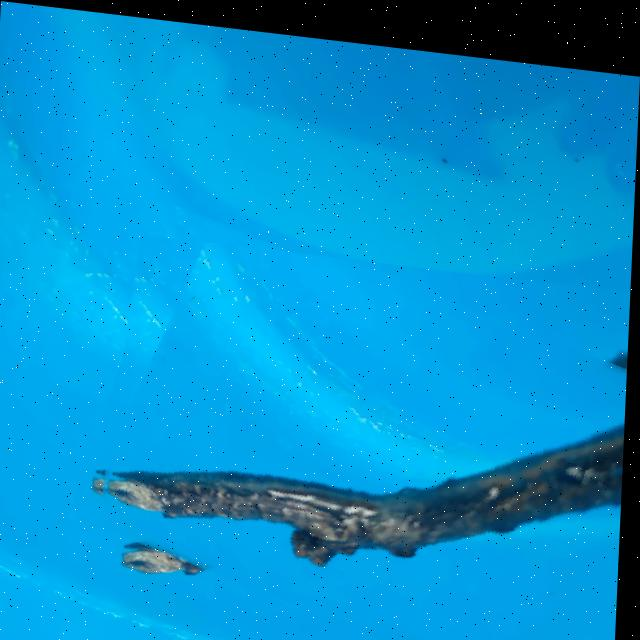wood: (86, 226, 632, 640)
